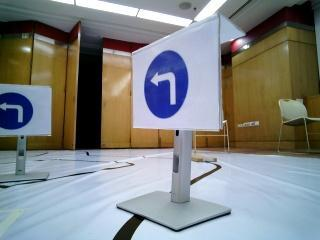left: (129, 31, 220, 129), (0, 85, 51, 134)
